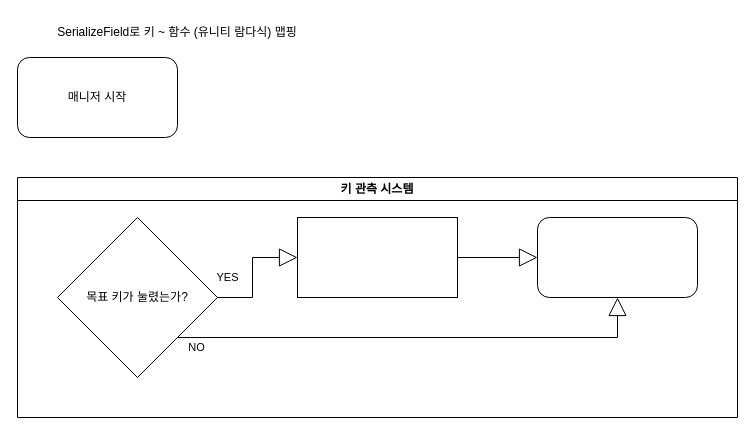
The diagram is 755 pixels wide and 435 high, and some of its shapes have lost their labels. Here are the shapes that lost their labels. From the top down, the box of each, then its label:
(296, 216, 458, 298): 함수 실행하기
(536, 216, 698, 298): 관측 1회 종료
